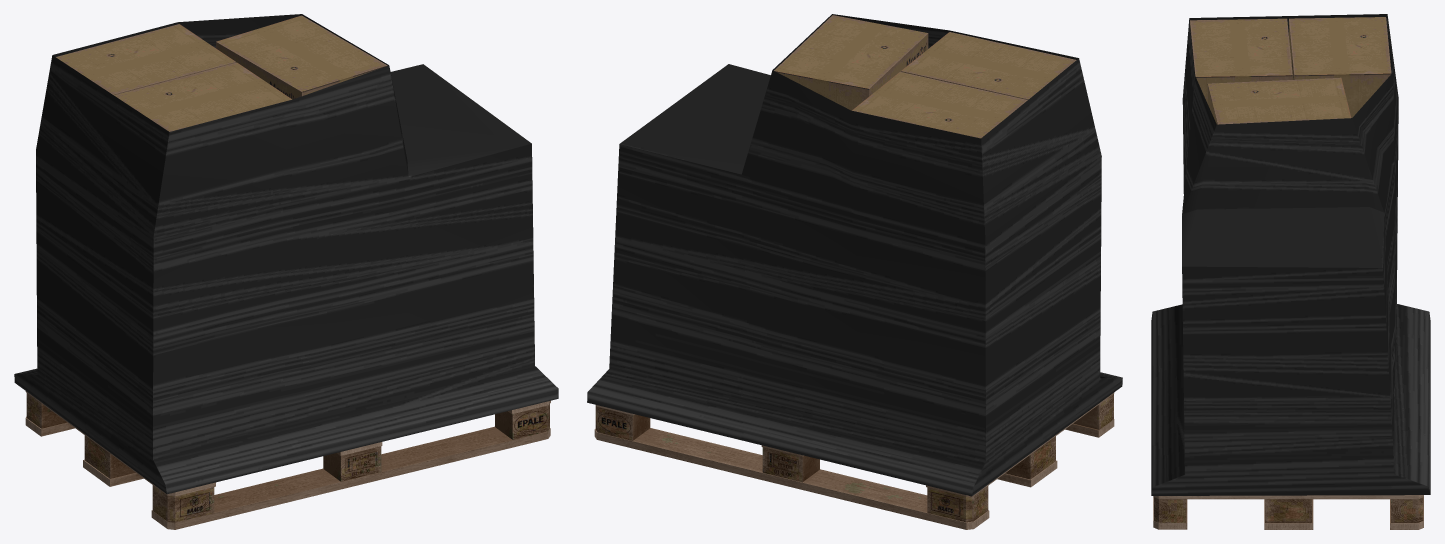
Rendered from goods11_tape.glb.
3 renders of one model, left to right at view 1: azimuth 30°, elevation 25°; view 2: azimuth 150°, elevation 25°; view 3: azimuth 270°, elevation 25°, orthographic. The views are drawn at different scales.
Visible parts, largest first — view 1: T_Packaging_V3, SM_Box_Set_03.001, SM_EuroPallet.008; view 2: T_Packaging_V3, SM_Box_Set_03.001, SM_EuroPallet.008; view 3: T_Packaging_V3, SM_Box_Set_03.001, SM_EuroPallet.008.
Boxes of the visible parts, x1,y1,x2,y2 form: T_Packaging_V3: (14,14,558,494); SM_Box_Set_03.001: (56,15,387,131); SM_EuroPallet.008: (25,391,550,529); T_Packaging_V3: (587,14,1122,496); SM_Box_Set_03.001: (774,15,1076,138); SM_EuroPallet.008: (594,392,1114,529); T_Packaging_V3: (1151,14,1430,495); SM_Box_Set_03.001: (1190,17,1391,124); SM_EuroPallet.008: (1153,495,1423,529).
Bounding box in the file's own units: 1.23 × 1.14 × 0.8256.
Materials: 3 (3 with a texture image).
